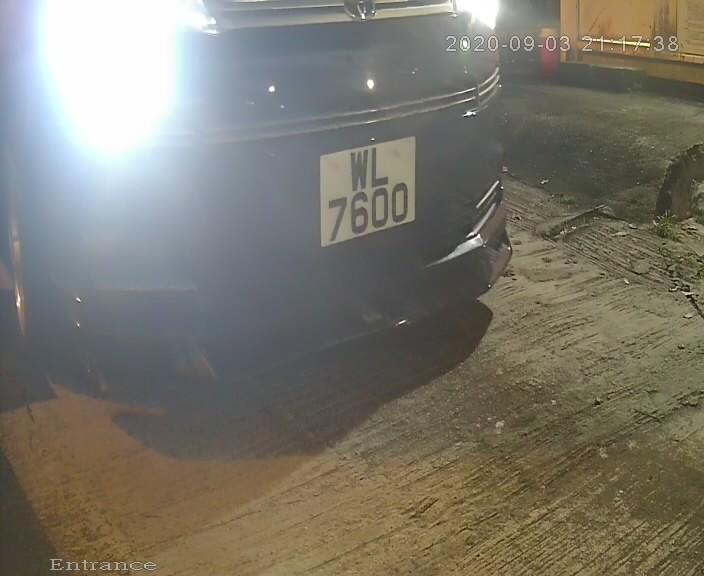License Plate: (312, 127, 428, 258)
